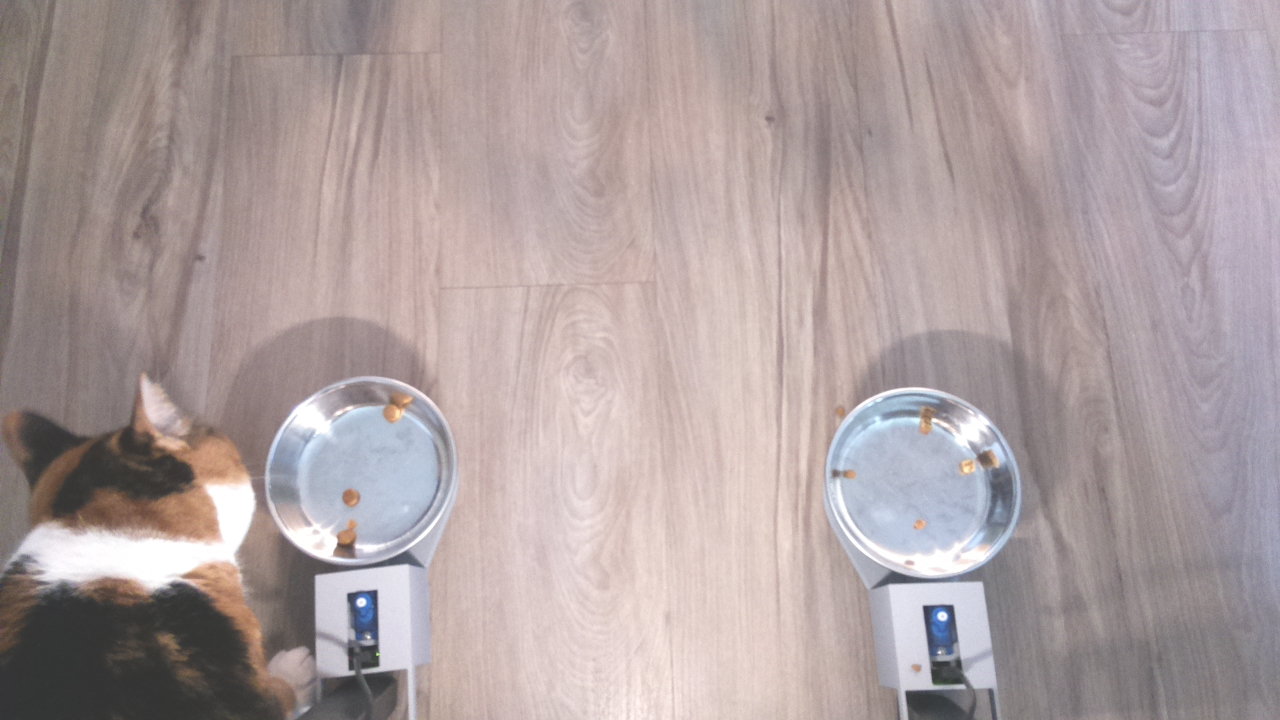bella: (11, 344, 261, 590)
open_bowl: (825, 384, 1028, 583), (258, 375, 461, 572)
